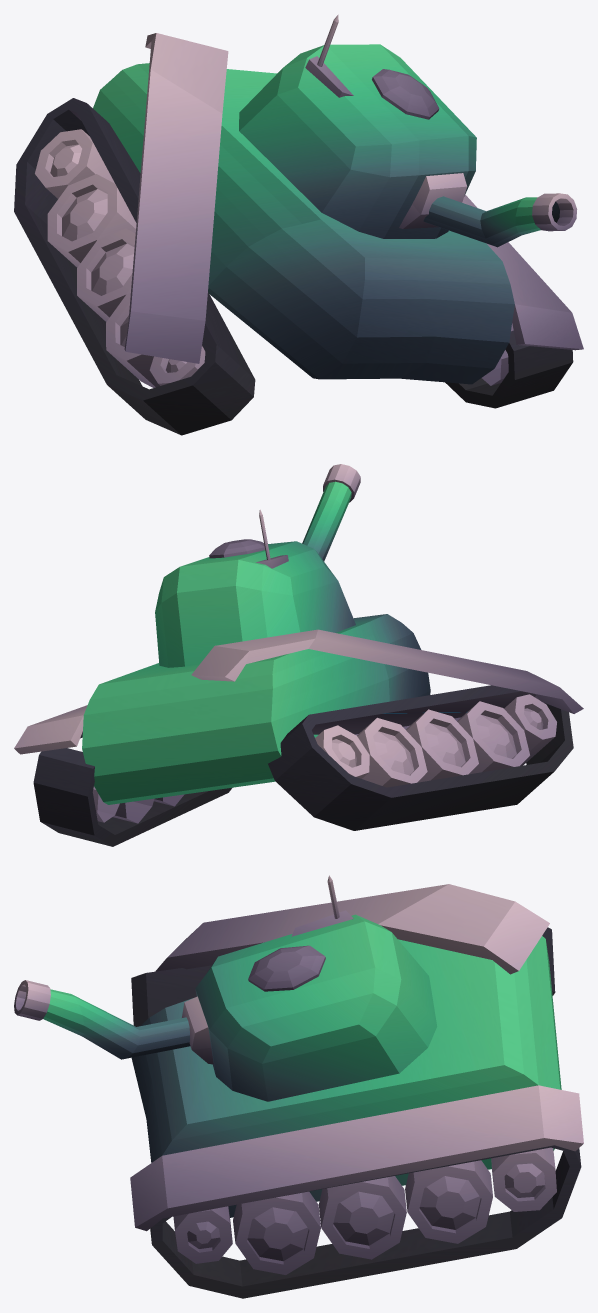
File: Tank_Wreck.fbx
3 views of the same model, one above another, from view 1: azimuth 30°, elevation 25°; view 2: azimuth 150°, elevation 25°; view 3: azimuth 270°, elevation 25° (orthographic). The views are drawn at different scales.
Visible parts, largest first — view 1: Tank Wreck; view 2: Tank Wreck; view 3: Tank Wreck.
Part boxes in pixels (x1,y1,x2,y2): Tank Wreck: [14, 14, 583, 435]; Tank Wreck: [14, 464, 583, 846]; Tank Wreck: [14, 875, 583, 1298].
Bounding box in the file's own units: 581 × 473 × 680.
